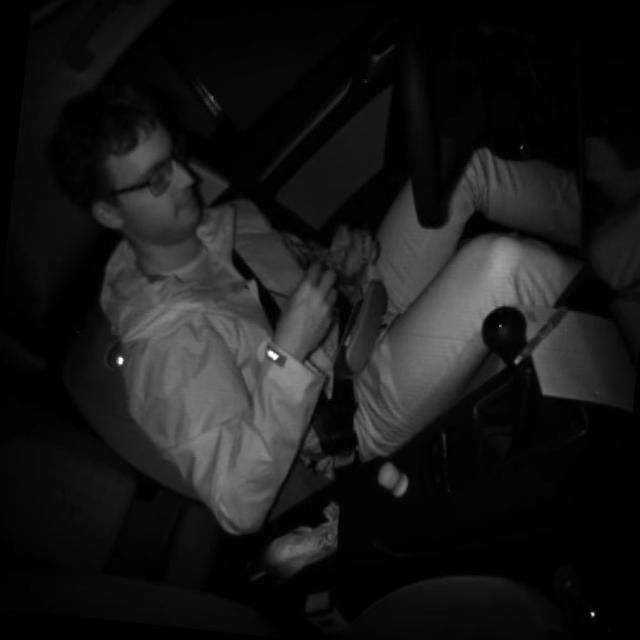pen: (512, 297, 572, 372)
